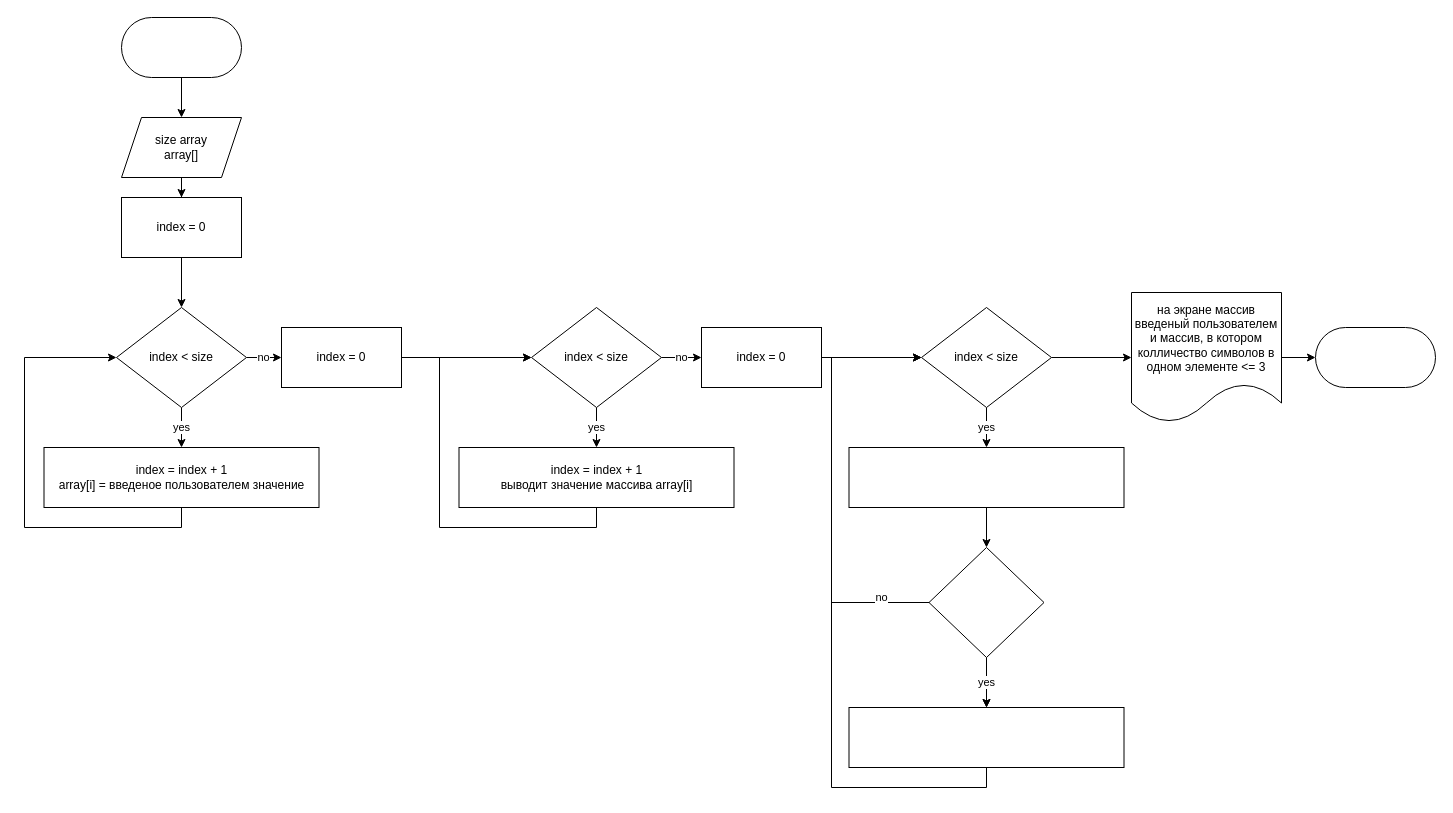
This 1453x813 diagram has some shape labels left out. Each missing label, with the centre of its shape:
"end" belongs at point (1375, 357).
"index = index + 1 newArray[] size newArray = количесву элементов array[i]" belongs at point (986, 477).
"size newArray < 3" belongs at point (986, 602).
"start" belongs at point (181, 47).
"выводит значение массива array[i]" belongs at point (986, 737).
